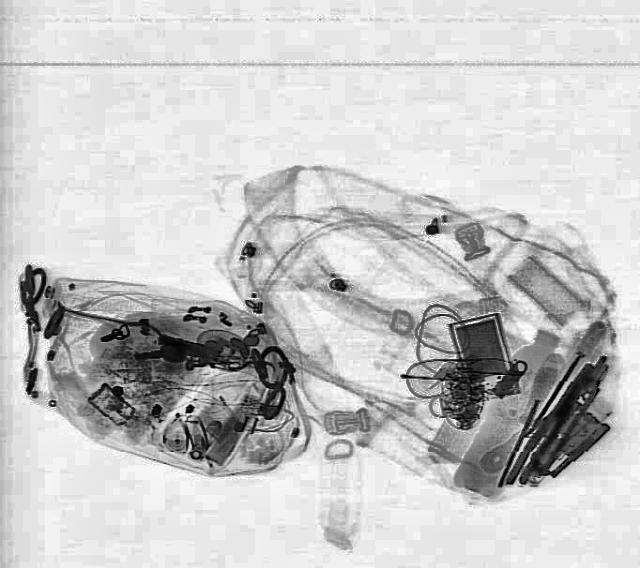Pliers: (502, 359, 600, 489)
